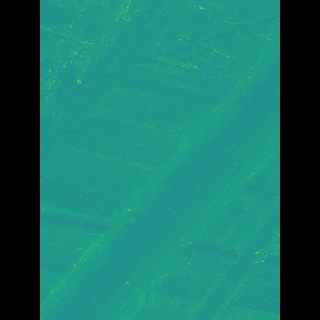Loch: (68, 44, 250, 316), (69, 0, 183, 186), (71, 16, 124, 125)
